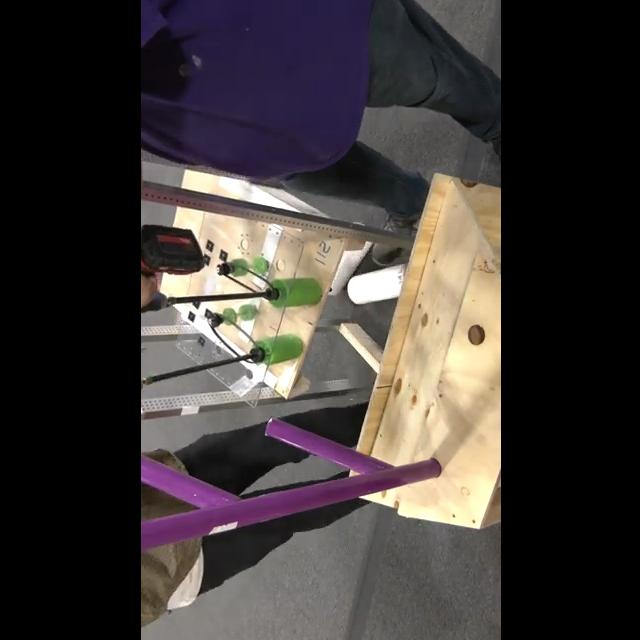CORAL: (344, 262, 406, 306)
